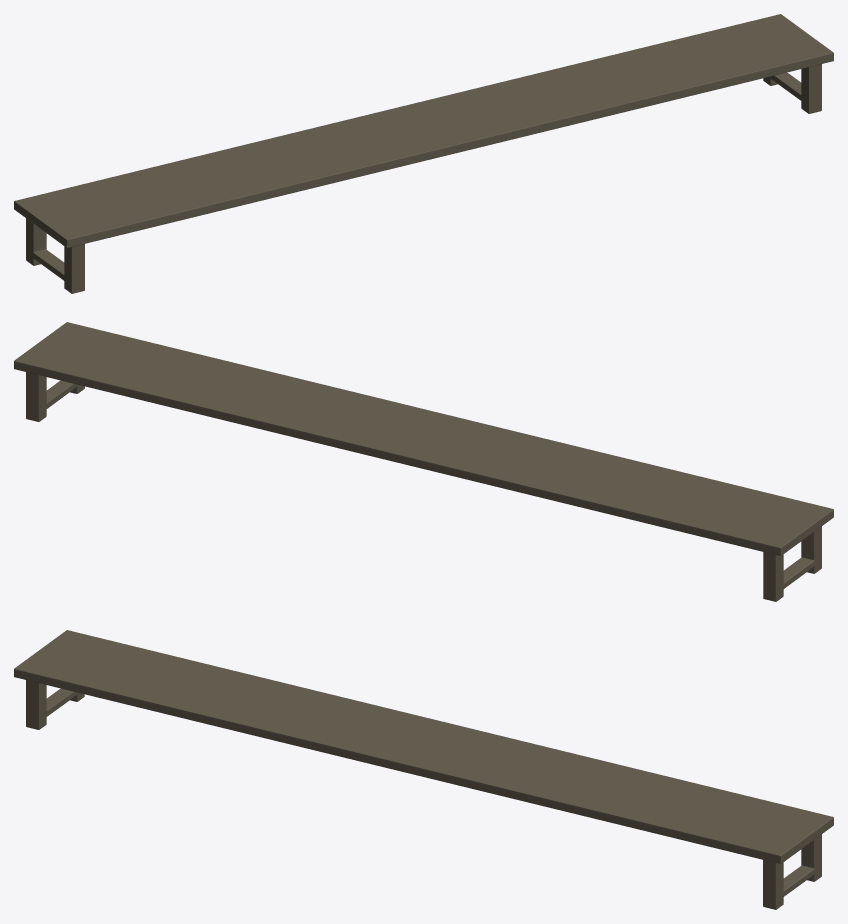
The model's file is longTable.gltf.
The picture shows the model from 3 angles, top to bottom: view 1: azimuth 30°, elevation 25°; view 2: azimuth 150°, elevation 25°; view 3: azimuth 330°, elevation 25°; orthographic projection.
Visible parts, largest first — view 1: pCube1; view 2: pCube1; view 3: pCube1.
Part boxes in pixels (x1,y1,x2,y2): pCube1: (14, 14, 833, 293); pCube1: (14, 322, 833, 601); pCube1: (14, 630, 833, 909).
Bounding box in the file's own units: 32.03 × 2.36 × 3.85.
